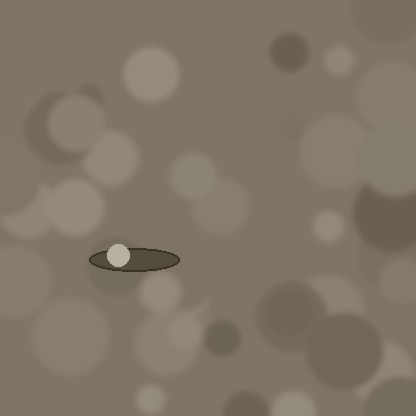gota: (89, 249, 179, 273)
